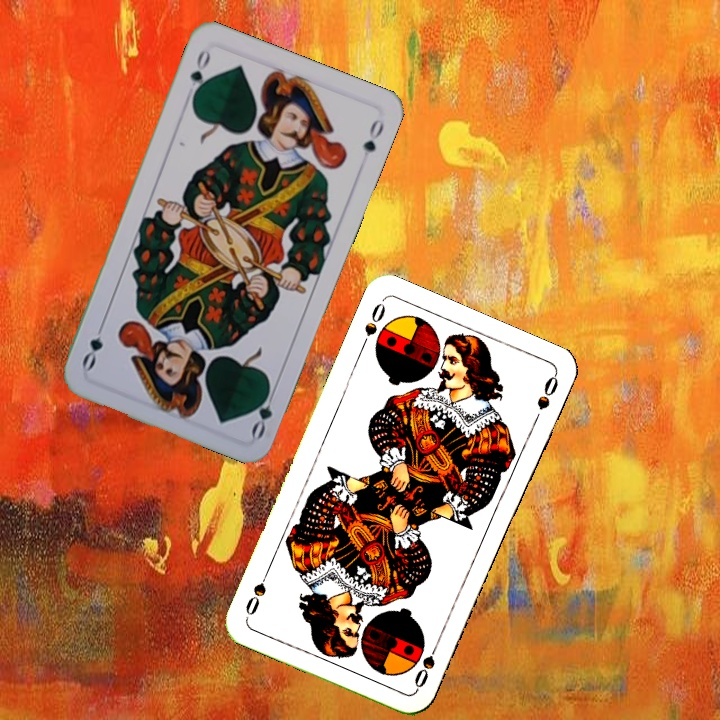GO: (247, 381, 279, 441), (185, 46, 213, 103)
SO: (410, 636, 442, 692), (356, 298, 388, 353)
